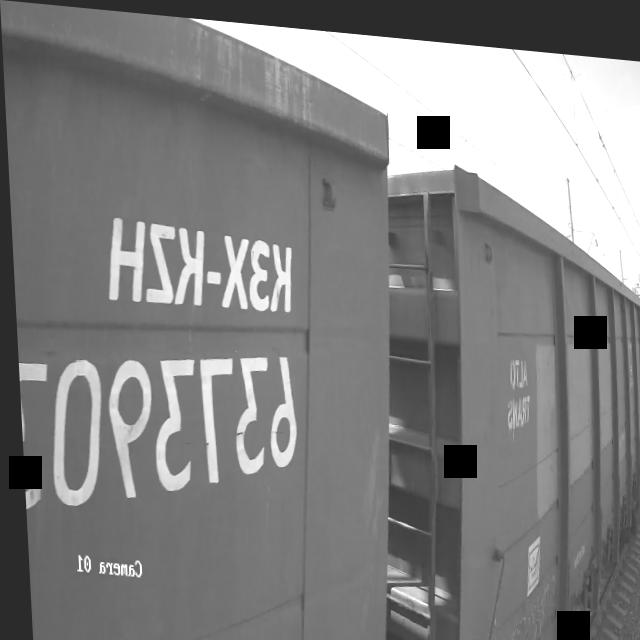gondola: (0, 0, 420, 640), (371, 139, 640, 640)
